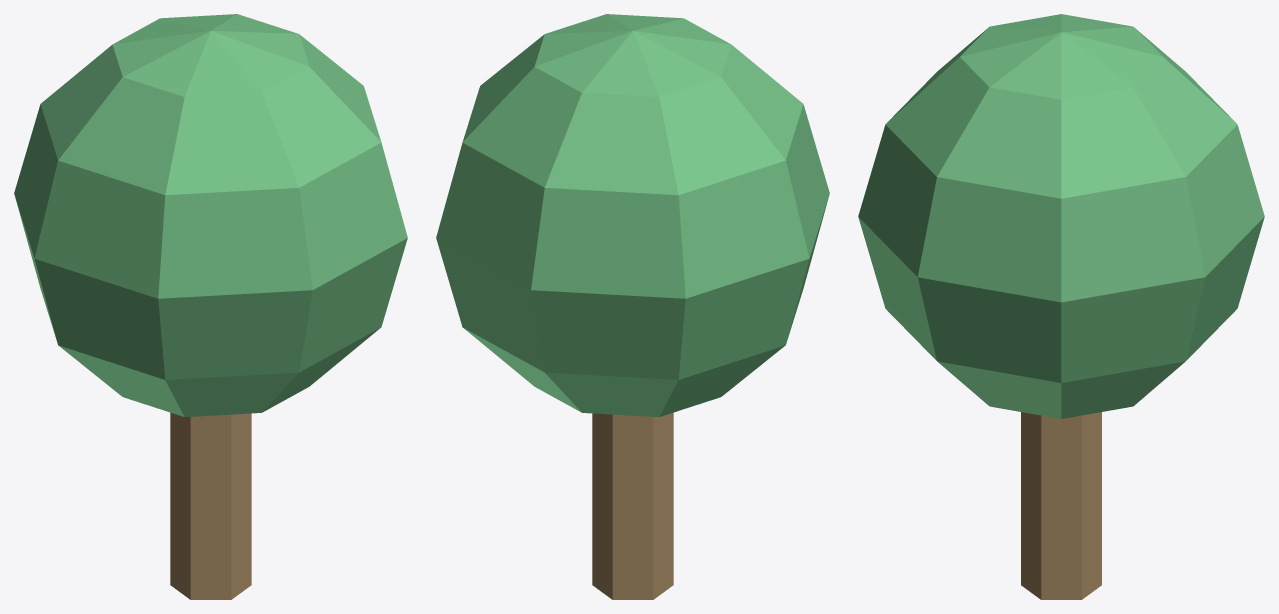
File: tree2.glb
3 renders of one model, left to right at view 1: azimuth 30°, elevation 25°; view 2: azimuth 150°, elevation 25°; view 3: azimuth 270°, elevation 25°, orthographic.
Parts seen in each view (by area): view 1: tree2; view 2: tree2; view 3: tree2.
Boxes of the visible parts, bbox=[...] form: tree2: bbox=[14, 14, 407, 599]; tree2: bbox=[436, 14, 829, 599]; tree2: bbox=[858, 14, 1264, 599].
Size of the model in its own units: 0.6 by 0.9 by 0.6.
